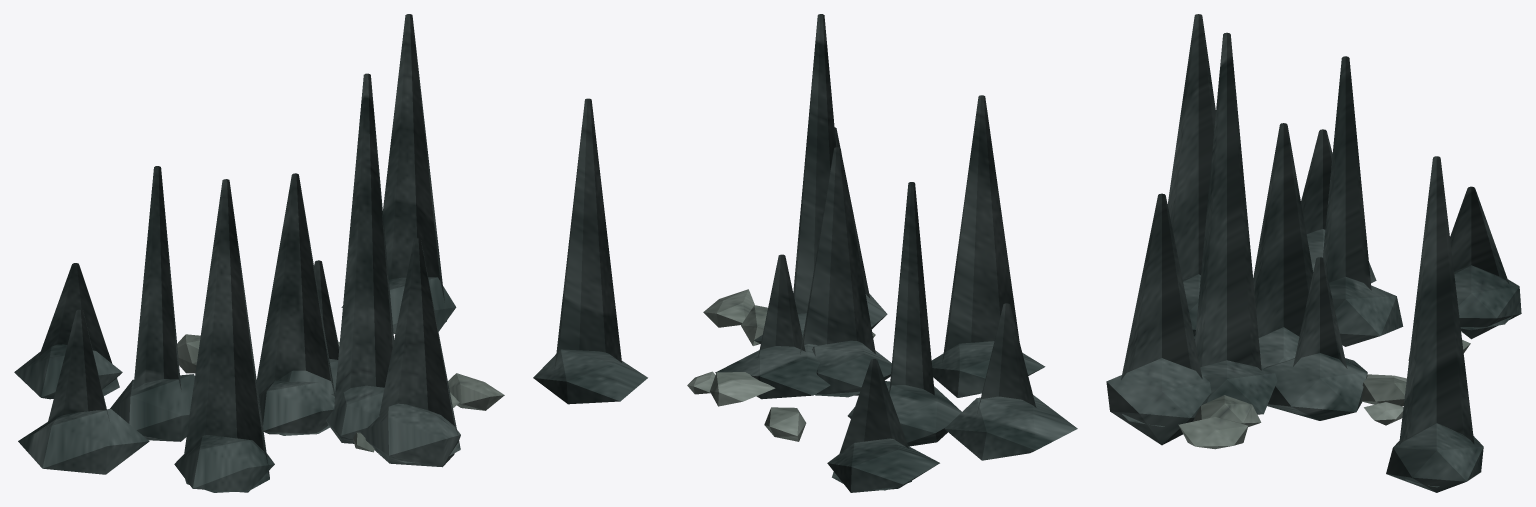
The model's file is 0098_stalagmites_23.glb.
The picture shows the model from 3 angles, left to right: view 1: azimuth 30°, elevation 25°; view 2: azimuth 150°, elevation 25°; view 3: azimuth 270°, elevation 25°; orthographic projection. The views are drawn at different scales.
Visible parts, largest first — view 1: stone_dark, stone; view 2: stone_dark, stone; view 3: stone_dark, stone.
Part boxes in pixels (left/top/right/bottom): stone_dark: left=14, top=14, right=460, bottom=492; stone: left=177, top=334, right=504, bottom=452; stone_dark: left=533, top=14, right=1077, bottom=492; stone: left=687, top=289, right=875, bottom=441; stone_dark: left=1106, top=14, right=1521, bottom=492; stone: left=1178, top=339, right=1470, bottom=449.
Size of the model in its own units: 3.01 by 2.2 by 2.16.
Materials: 2 (2 with a texture image).
